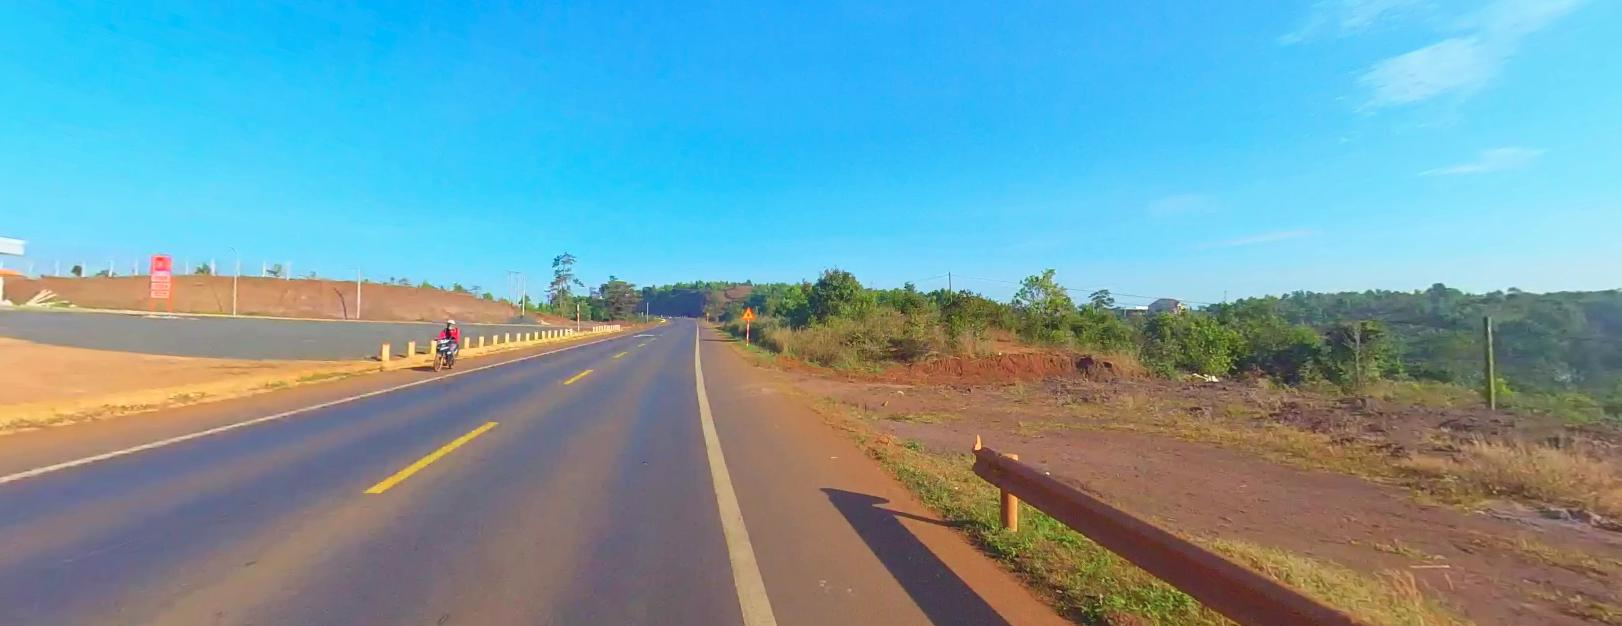Nguy hiem: (741, 305, 754, 317)
